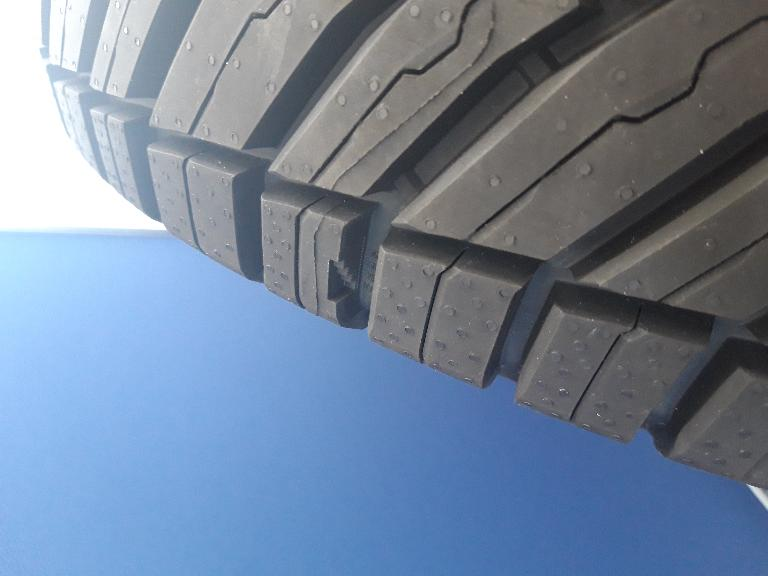temoin:100: (326, 249, 365, 304)
